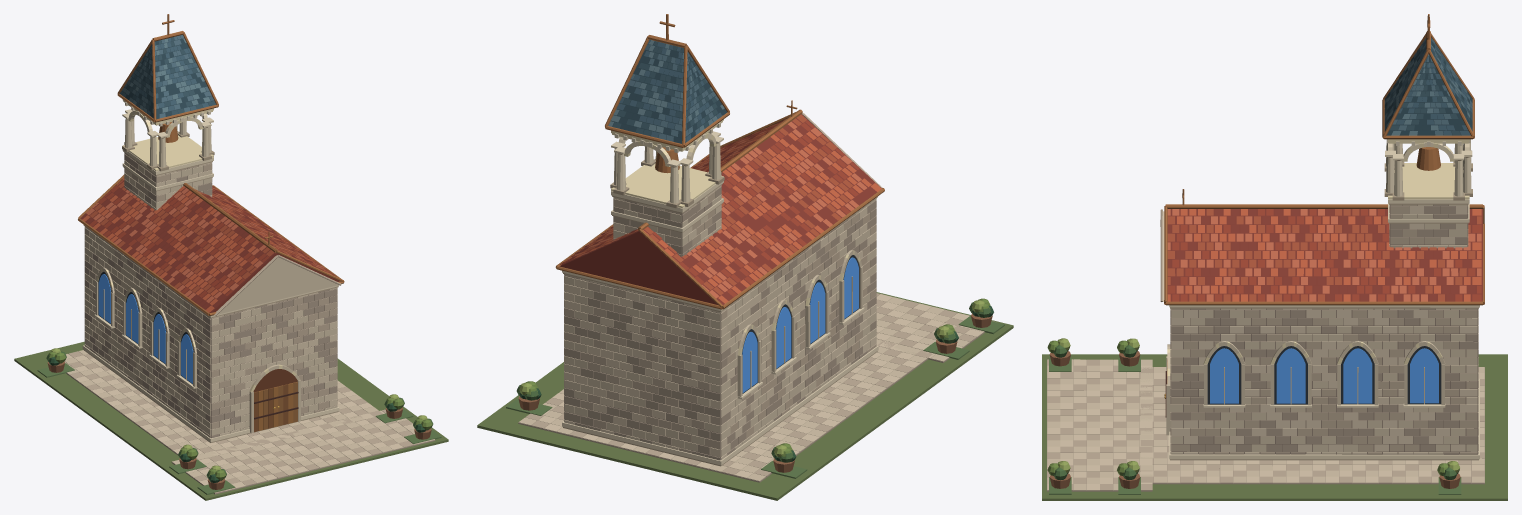
Rendered from church-nivel-2.glb.
3 renders of one model, left to right at view 1: azimuth 30°, elevation 25°; view 2: azimuth 150°, elevation 25°; view 3: azimuth 270°, elevation 25°, orthographic. The views are drawn at different scales.
Parts seen in each view (by area): view 1: Igreja 02 #d3c3a9, Igreja 02 #c1af99, Igreja 02 #dac9af, Igreja 02 #ae9d8b, Igreja 02 #853e33, Igreja 02 #6c7d4e, Igreja 02 #e6d7ba, Igreja 02 #bf6243, Igreja 02 #a76e42, Igreja 02 #c06b4f, Igreja 02 #9b4735, Igreja 02 #a8563c (+16 smaller); view 2: Igreja 02 #d3c3a9, Igreja 02 #dac9af, Igreja 02 #c1af99, Igreja 02 #ae9d8b, Igreja 02 #853e33, Igreja 02 #6c7d4e, Igreja 02 #e6d7ba, Igreja 02 #a76e42, Igreja 02 #bf6243, Igreja 02 #a8563c, Igreja 02 #c06b4f, Igreja 02 #406c9f (+11 smaller); view 3: Igreja 02 #d3c3a9, Igreja 02 #c1af99, Igreja 02 #dac9af, Igreja 02 #853e33, Igreja 02 #ae9d8b, Igreja 02 #6c7d4e, Igreja 02 #87776b, Igreja 02 #e6d7ba, Igreja 02 #406c9f, Igreja 02 #a76e42, Igreja 02 #a8563c, Igreja 02 #c06b4f (+15 smaller).
Boxes of the visible parts, x1=… form: Igreja 02 #d3c3a9: x1=65, y1=156, x2=424, y2=490; Igreja 02 #c1af99: x1=64, y1=162, x2=414, y2=493; Igreja 02 #dac9af: x1=66, y1=162, x2=434, y2=488; Igreja 02 #ae9d8b: x1=66, y1=152, x2=435, y2=494; Igreja 02 #853e33: x1=80, y1=179, x2=339, y2=312; Igreja 02 #6c7d4e: x1=14, y1=341, x2=448, y2=500; Igreja 02 #e6d7ba: x1=82, y1=109, x2=339, y2=442; Igreja 02 #bf6243: x1=82, y1=178, x2=327, y2=312; Igreja 02 #a76e42: x1=78, y1=14, x2=344, y2=315; Igreja 02 #c06b4f: x1=86, y1=187, x2=331, y2=302; Igreja 02 #9b4735: x1=89, y1=185, x2=336, y2=297; Igreja 02 #a8563c: x1=90, y1=180, x2=332, y2=293; Igreja 02 #d3c3a9: x1=518, y1=194, x2=984, y2=481; Igreja 02 #dac9af: x1=538, y1=185, x2=983, y2=478; Igreja 02 #c1af99: x1=525, y1=113, x2=994, y2=476; Igreja 02 #ae9d8b: x1=518, y1=186, x2=984, y2=482; Igreja 02 #853e33: x1=559, y1=114, x2=880, y2=305; Igreja 02 #6c7d4e: x1=477, y1=292, x2=1013, y2=500; Igreja 02 #e6d7ba: x1=562, y1=131, x2=878, y2=465; Igreja 02 #a76e42: x1=555, y1=14, x2=884, y2=309; Igreja 02 #bf6243: x1=564, y1=122, x2=881, y2=303; Igreja 02 #a8563c: x1=577, y1=114, x2=852, y2=295; Igreja 02 #c06b4f: x1=574, y1=121, x2=866, y2=298; Igreja 02 #406c9f: x1=742, y1=257, x2=858, y2=392; Igreja 02 #d3c3a9: x1=1047, y1=204, x2=1484, y2=490; Igreja 02 #c1af99: x1=1047, y1=204, x2=1484, y2=490; Igreja 02 #dac9af: x1=1047, y1=204, x2=1484, y2=490; Igreja 02 #853e33: x1=1167, y1=209, x2=1482, y2=301; Igreja 02 #ae9d8b: x1=1047, y1=204, x2=1484, y2=491; Igreja 02 #6c7d4e: x1=1042, y1=354, x2=1507, y2=500; Igreja 02 #87776b: x1=1171, y1=205, x2=1477, y2=454; Igreja 02 #e6d7ba: x1=1169, y1=139, x2=1479, y2=459; Igreja 02 #406c9f: x1=1210, y1=348, x2=1438, y2=403; Igreja 02 #a76e42: x1=1164, y1=14, x2=1484, y2=305; Igreja 02 #a8563c: x1=1167, y1=209, x2=1481, y2=301; Igreja 02 #c06b4f: x1=1167, y1=209, x2=1481, y2=301.
Bounding box in the file's own units: 13.75 × 18.41 × 18.77.
